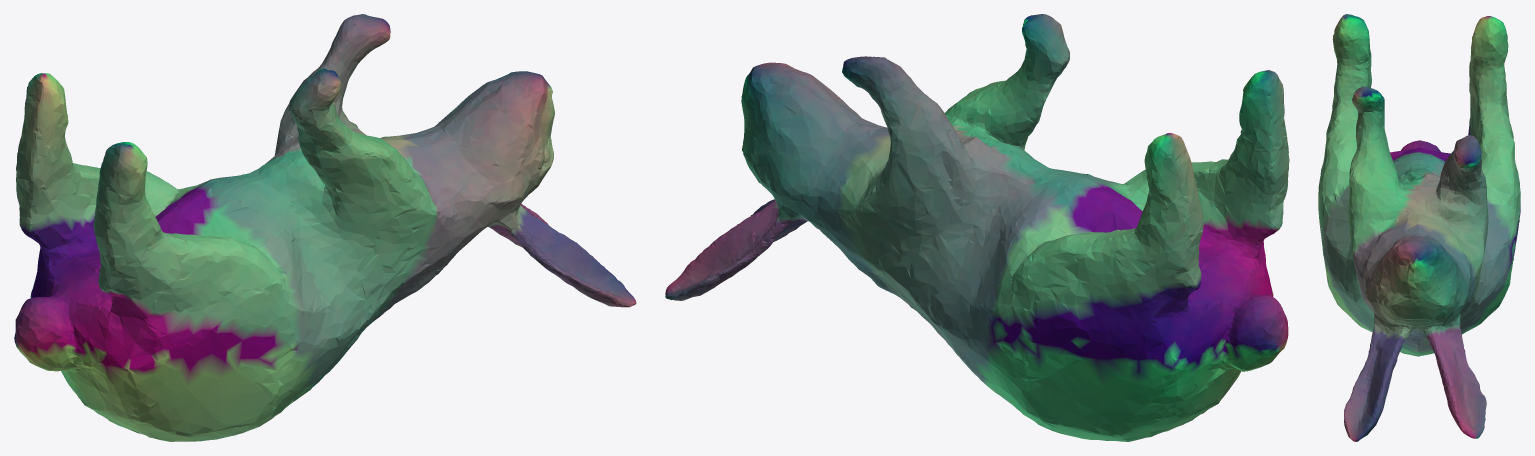
Rendered from rabbit-14.off.obj.
3 renders of one model, left to right at view 1: azimuth 30°, elevation 25°; view 2: azimuth 150°, elevation 25°; view 3: azimuth 270°, elevation 25°, orthographic. The views are drawn at different scales.
Size of the model in its own units: 1.46 by 0.8813 by 0.5598.
